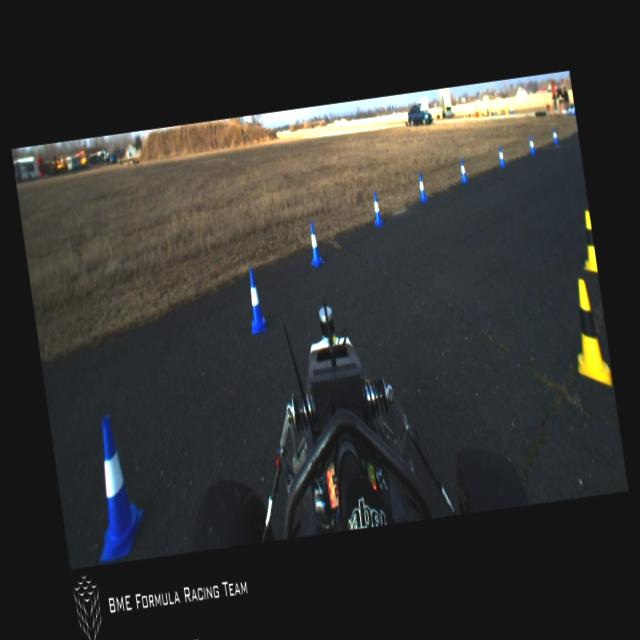blue_cone: (79, 412, 150, 564), (244, 268, 268, 335), (305, 220, 324, 268), (368, 189, 384, 227), (416, 174, 427, 204), (457, 158, 468, 184), (496, 145, 506, 169), (528, 136, 536, 156), (552, 128, 558, 144)
yellow_cone: (566, 276, 614, 391), (576, 209, 598, 278)
